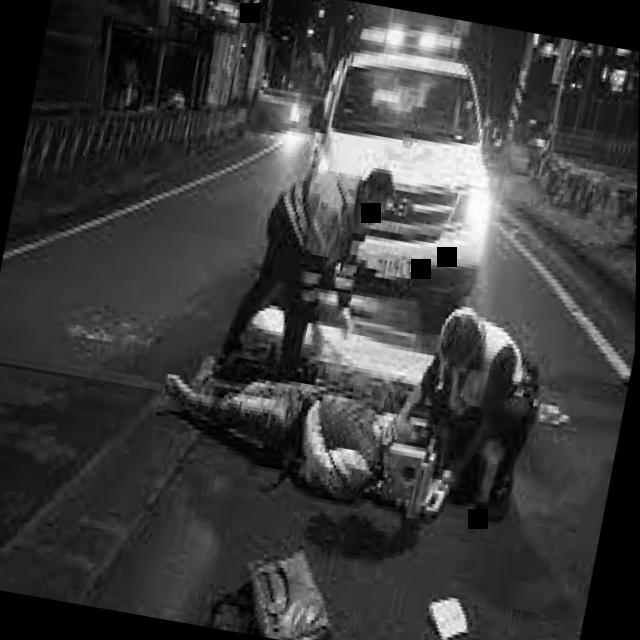Fall-Detected: (139, 322, 447, 516)
